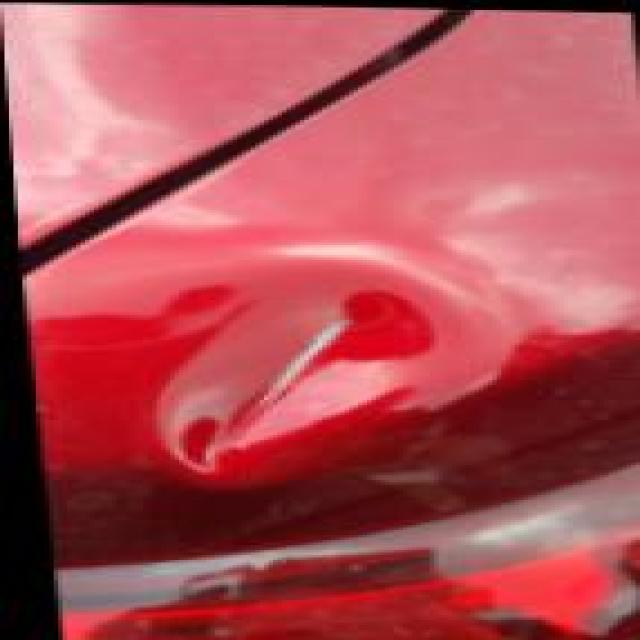Fender: (31, 220, 588, 539)
